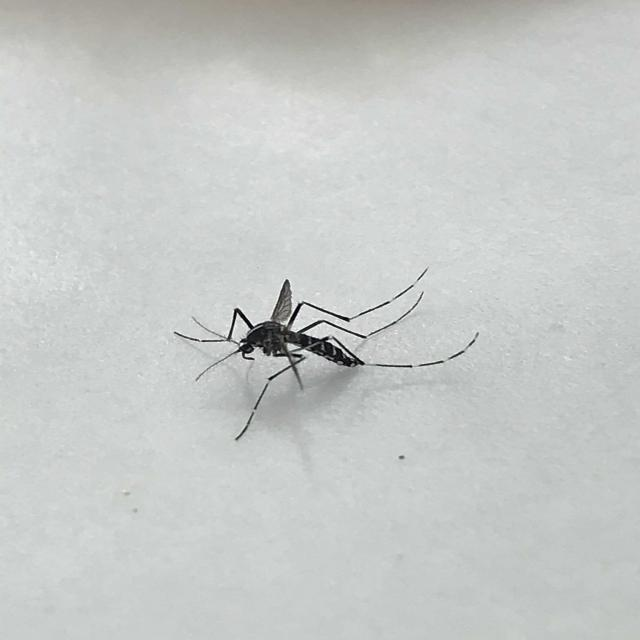albopictus: (172, 254, 468, 445)
